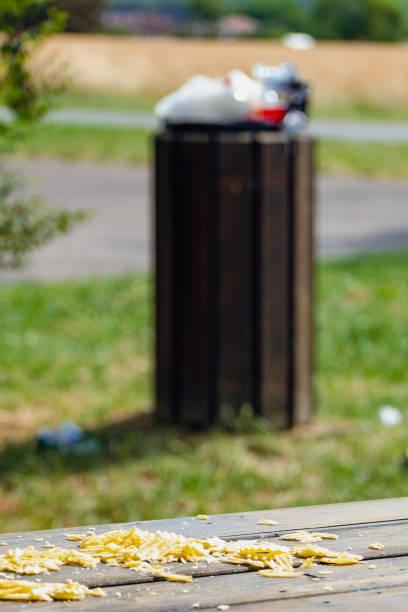trash: (151, 71, 254, 125), (16, 416, 89, 462), (227, 61, 271, 111), (243, 84, 277, 134), (264, 56, 300, 98), (276, 109, 319, 141), (282, 80, 312, 116)
trash_can_overflow: (136, 16, 340, 456)
